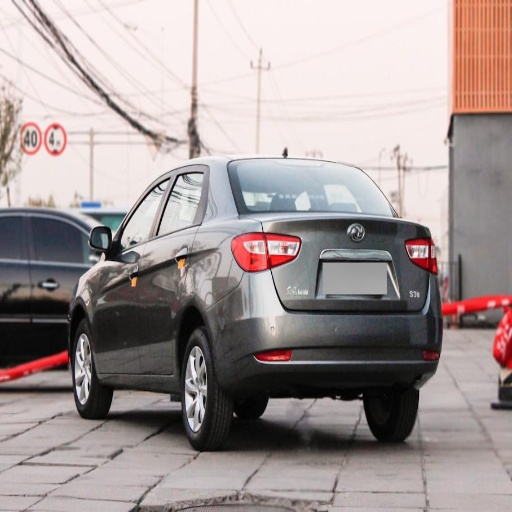back_bumper: (207, 271, 440, 404)
back_glass: (228, 161, 391, 214)
back_left_door: (140, 173, 198, 374), (35, 277, 68, 325)
back_left_light: (231, 231, 272, 271)
tailgate: (265, 211, 422, 313)
trunk: (267, 216, 319, 275)
